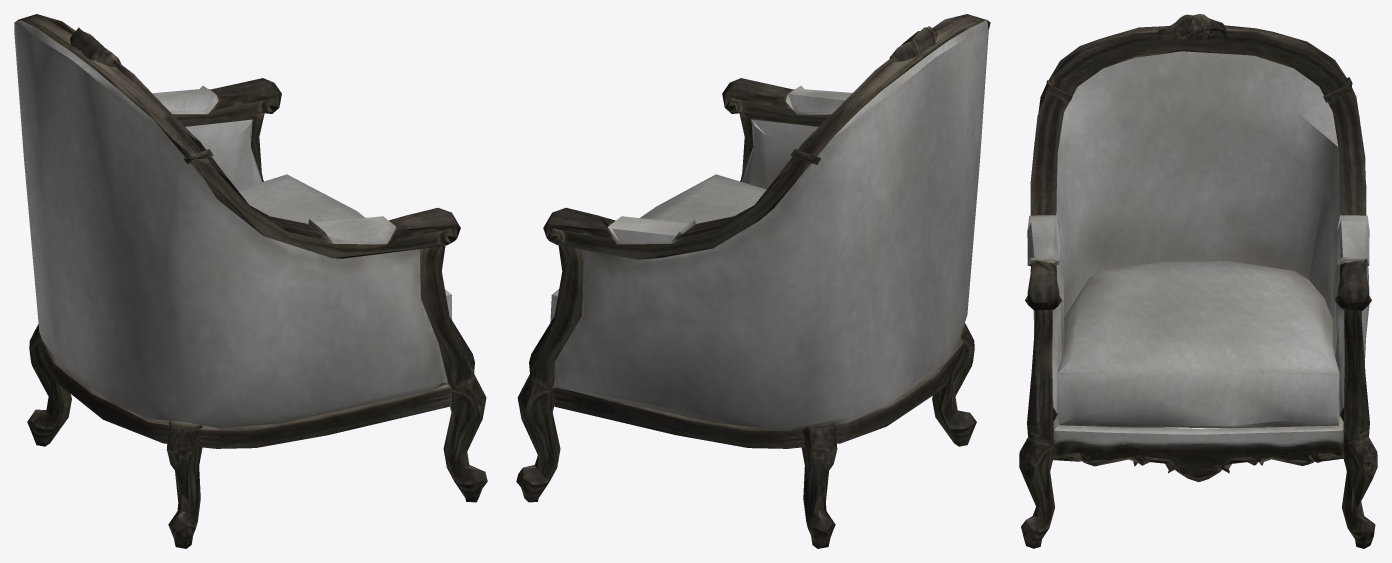
Rendered from armchair-wingback.lod1.glb.
3 views of the same model, side by side, from view 1: azimuth 30°, elevation 25°; view 2: azimuth 150°, elevation 25°; view 3: azimuth 270°, elevation 25° (orthographic). The views are drawn at different scales.
Visible parts, largest first — view 1: armchair-wingback; view 2: armchair-wingback; view 3: armchair-wingback.
Part boxes in pixels (bbox=[...]): armchair-wingback: bbox=[14, 14, 487, 548]; armchair-wingback: bbox=[516, 14, 990, 548]; armchair-wingback: bbox=[1019, 14, 1377, 548].
Size of the model in its own units: 0.7653 by 1.06 by 0.8476.
1 material, 1 textured.
